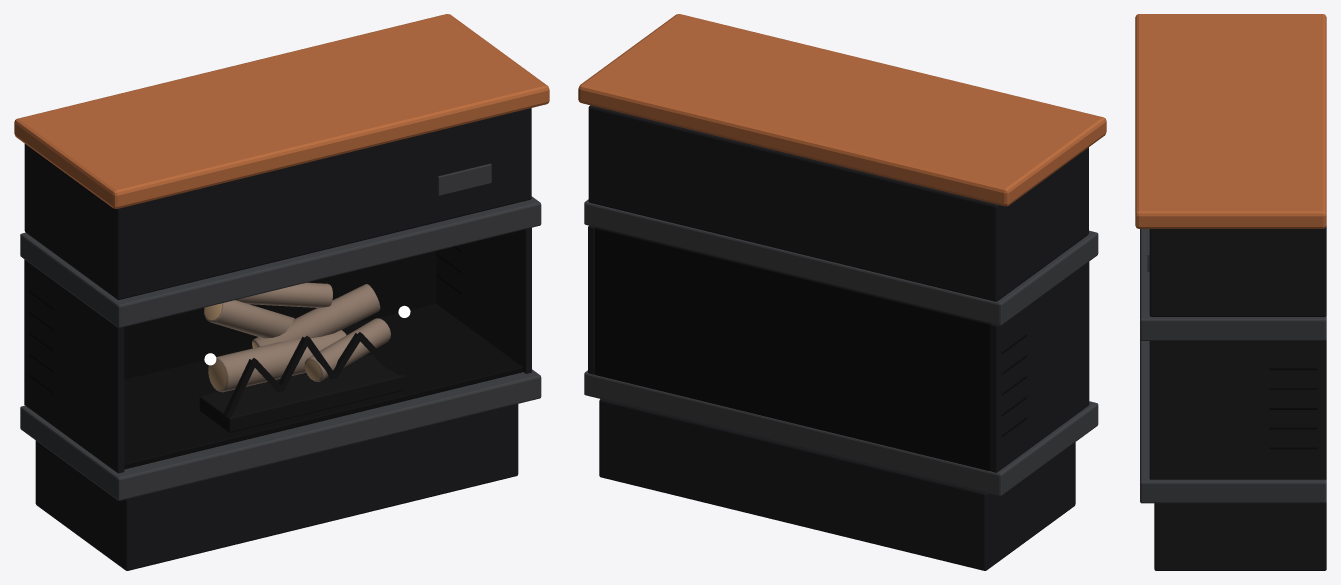
The model's file is fireplace.glb.
3 views of the same model, side by side, from view 1: azimuth 30°, elevation 25°; view 2: azimuth 150°, elevation 25°; view 3: azimuth 270°, elevation 25° (orthographic). The views are drawn at different scales.
Visible parts, largest first — view 1: Top, Upper box, Base, Floor, Lower band, Upper band, Panel left, Back, Panel right, Burner, Log 1, Log 2 (+4 smaller); view 2: Back, Top, Upper box, Base, Panel left, Upper band, Lower band, Panel right, Floor; view 3: Top, Panel right, Upper box, Base, Lower band, Upper band.
Part boxes in pixels (x1=…): Top: x1=14, y1=14, x2=549, y2=208; Upper box: x1=24, y1=108, x2=531, y2=299; Base: x1=35, y1=404, x2=518, y2=570; Floor: x1=124, y1=304, x2=522, y2=469; Lower band: x1=20, y1=369, x2=541, y2=500; Upper band: x1=20, y1=196, x2=541, y2=327; Panel left: x1=24, y1=259, x2=124, y2=473; Back: x1=124, y1=251, x2=436, y2=379; Panel right: x1=436, y1=227, x2=531, y2=373; Burner: x1=199, y1=354, x2=405, y2=432; Log 1: x1=208, y1=330, x2=346, y2=392; Log 2: x1=252, y1=284, x2=380, y2=348; Back: x1=594, y1=227, x2=990, y2=471; Top: x1=578, y1=14, x2=1106, y2=206; Upper box: x1=588, y1=105, x2=1088, y2=301; Base: x1=599, y1=399, x2=1075, y2=570; Panel left: x1=990, y1=262, x2=1089, y2=472; Upper band: x1=584, y1=199, x2=1098, y2=325; Lower band: x1=584, y1=370, x2=1098, y2=496; Panel right: x1=588, y1=225, x2=595, y2=374; Floor: x1=595, y1=371, x2=990, y2=470; Top: x1=1135, y1=14, x2=1326, y2=228; Panel right: x1=1149, y1=340, x2=1326, y2=479; Upper box: x1=1149, y1=226, x2=1326, y2=316; Base: x1=1154, y1=502, x2=1326, y2=570; Lower band: x1=1140, y1=339, x2=1326, y2=503; Upper band: x1=1140, y1=229, x2=1326, y2=340.
Bounding box in the file's own units: 0.99 × 0.85 × 0.4.
